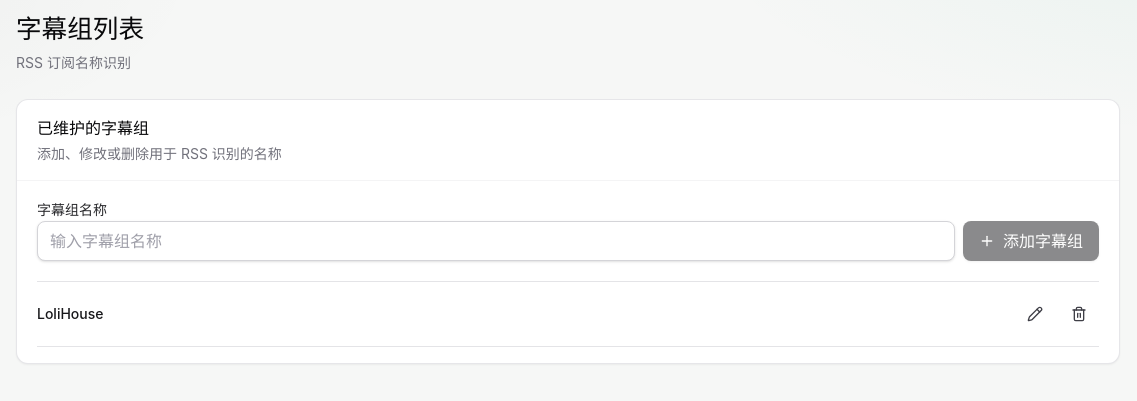
Test case: SettingsSubtitleGroupsPage › 删除返回无正文204后刷新列表并退出被删除记录的编辑
Click the button named "编辑 LoliHouse" at (1035, 314), box [1015, 294, 1055, 334]
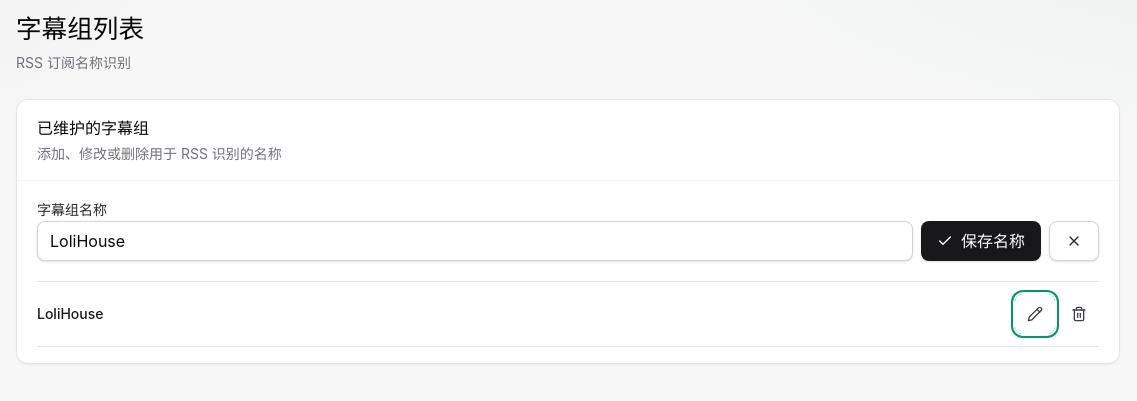
Click the button named "删除 LoliHouse" at (1079, 314), box [1059, 294, 1099, 334]
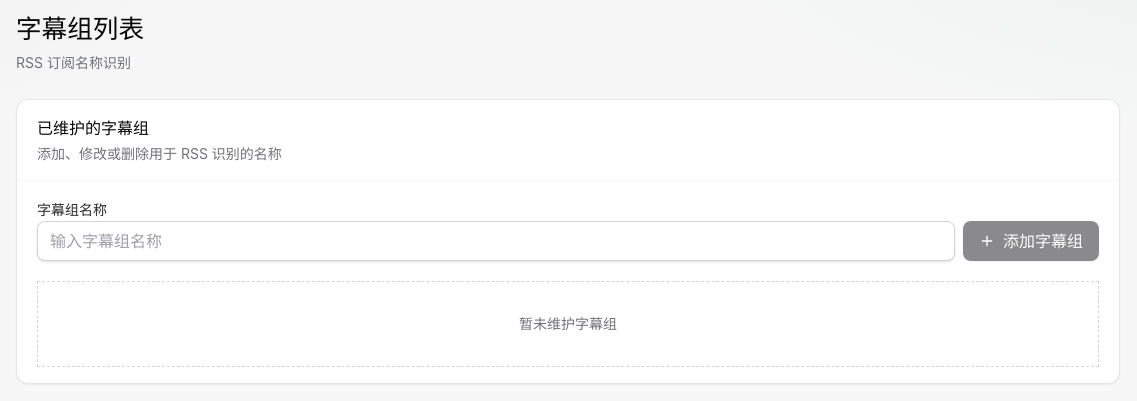
expect the text "暂未维护字幕组" is shown: met, box [37, 281, 1099, 367]
expect the field labelled "字幕组名称" is empty: met, box [37, 221, 955, 261]
expect the button "添加字幕组" is shown: met, box [963, 221, 1099, 261]
